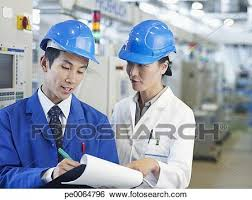Person_wearing_helmet: (114, 18, 184, 70), (38, 20, 98, 72)
